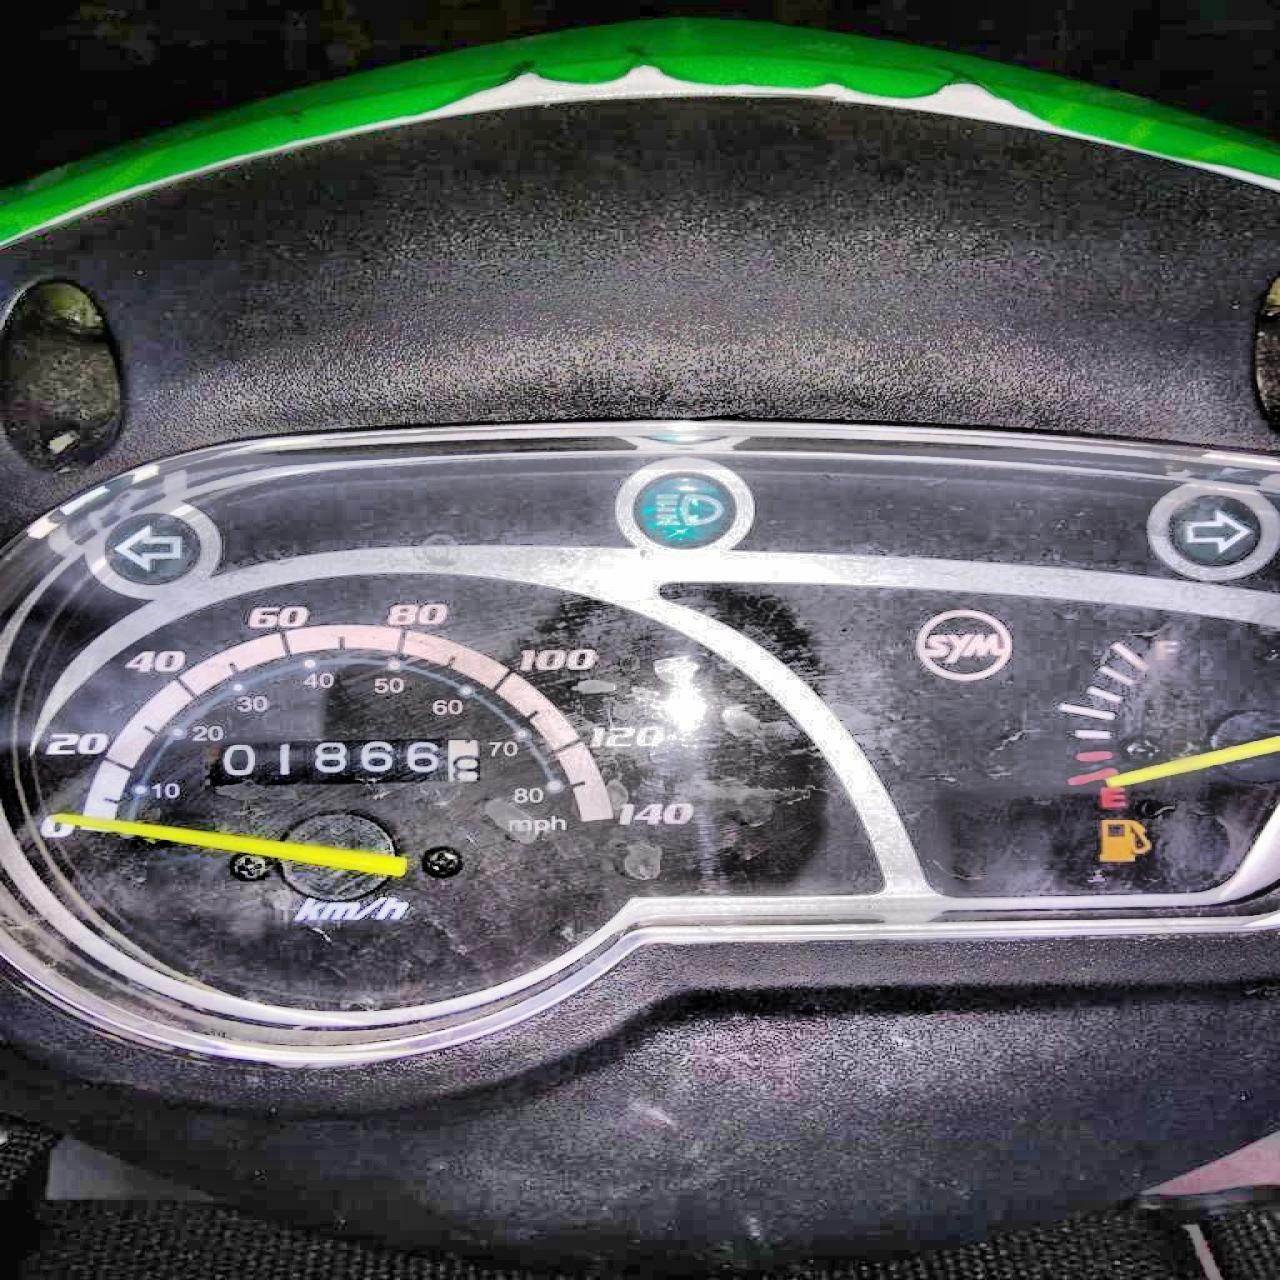0: (220, 742, 260, 778)
1: (274, 742, 294, 782)
6: (403, 737, 442, 775), (358, 739, 395, 776)
8: (312, 739, 348, 776), (448, 752, 484, 786)
odometer: (212, 735, 486, 794)
